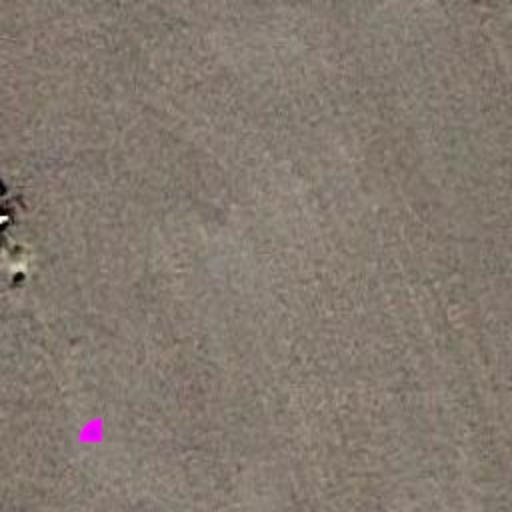quarter_circle: (68, 408, 116, 456)
